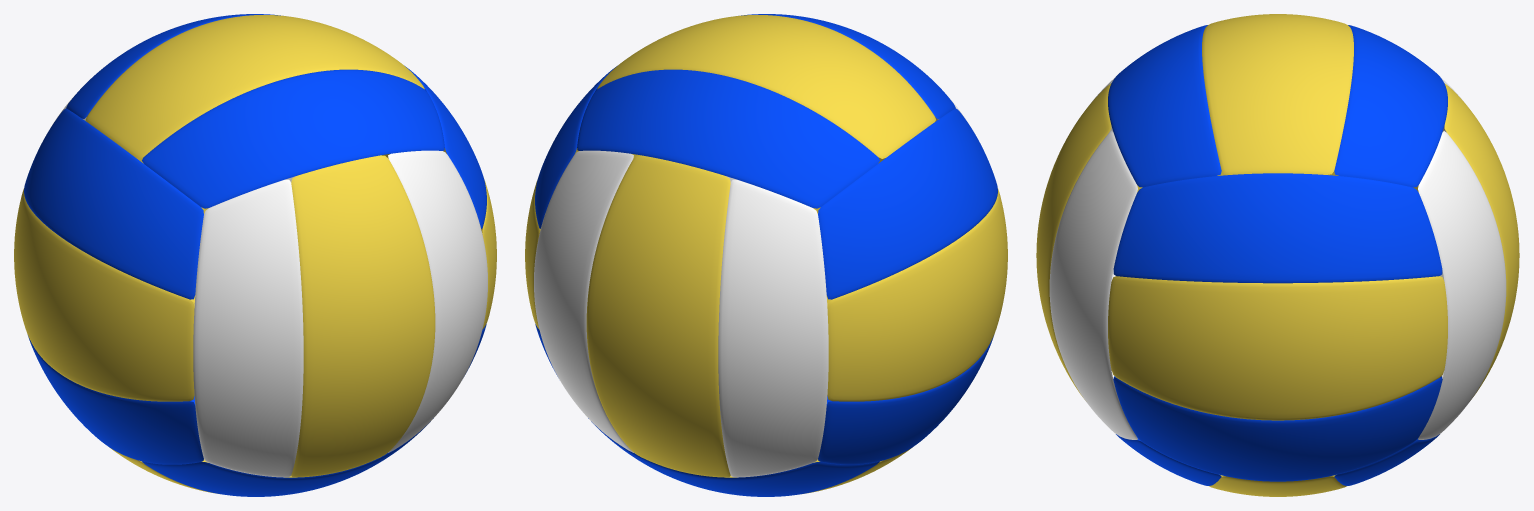
File: volleyball_2.fbx
3 views of the same model, side by side, from view 1: azimuth 30°, elevation 25°; view 2: azimuth 150°, elevation 25°; view 3: azimuth 270°, elevation 25° (orthographic).
Parts seen in each view (by area): view 1: VolleyBall; view 2: VolleyBall; view 3: VolleyBall.
Part boxes in pixels (bbox=[...]): VolleyBall: bbox=[14, 14, 496, 496]; VolleyBall: bbox=[525, 14, 1007, 496]; VolleyBall: bbox=[1036, 14, 1519, 496].
Bounding box in the file's own units: 21 × 21 × 21.
